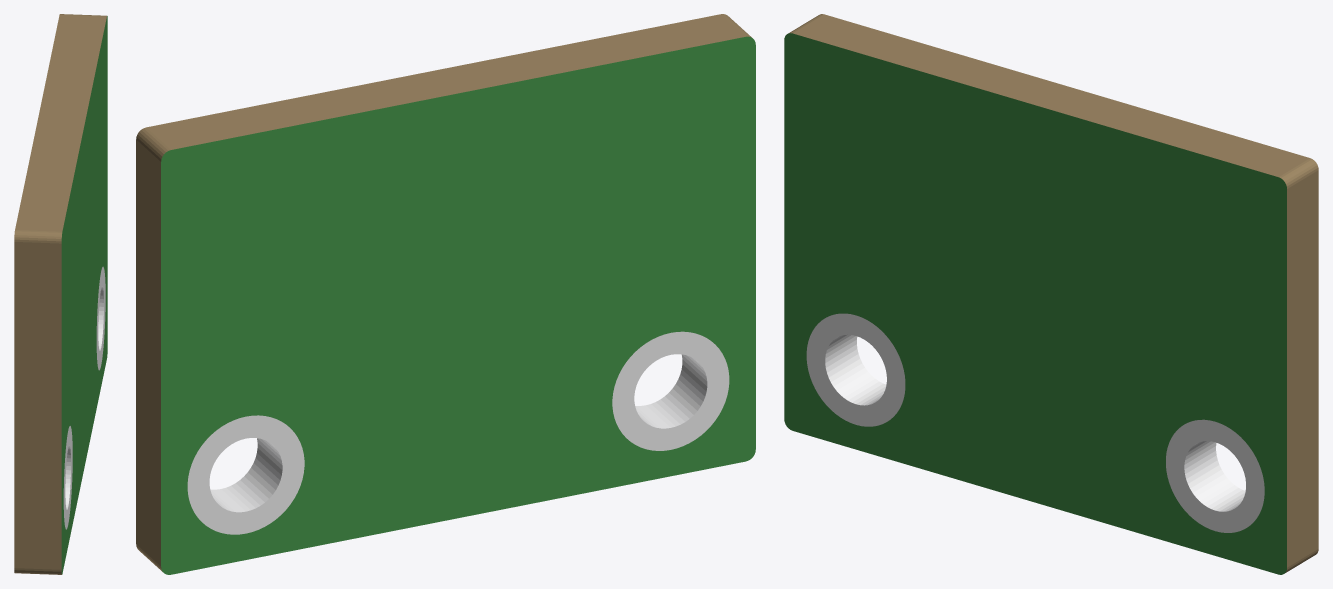
Rendered from tof_right_1.dae.
The picture shows the model from 3 angles, left to right: view 1: azimuth 30°, elevation 25°; view 2: azimuth 150°, elevation 25°; view 3: azimuth 270°, elevation 25°; orthographic projection. The views are drawn at different scales.
Parts seen in each view (by area): view 1: part_1_node, part_0_node, part_2_node; view 2: part_0_node, part_1_node, part_2_node; view 3: part_0_node, part_1_node, part_2_node.
Boxes of the visible parts, <box> form: part_1_node: <box>14,14,106,574</box>; part_0_node: <box>61,16,107,574</box>; part_2_node: <box>63,266,105,529</box>; part_0_node: <box>161,36,755,574</box>; part_1_node: <box>136,14,751,571</box>; part_2_node: <box>187,331,729,534</box>; part_0_node: <box>784,33,1286,574</box>; part_1_node: <box>789,14,1318,572</box>; part_2_node: <box>806,313,1264,532</box>.
Size of the model in its own units: 11.51 by 15.48 by 12.7.
